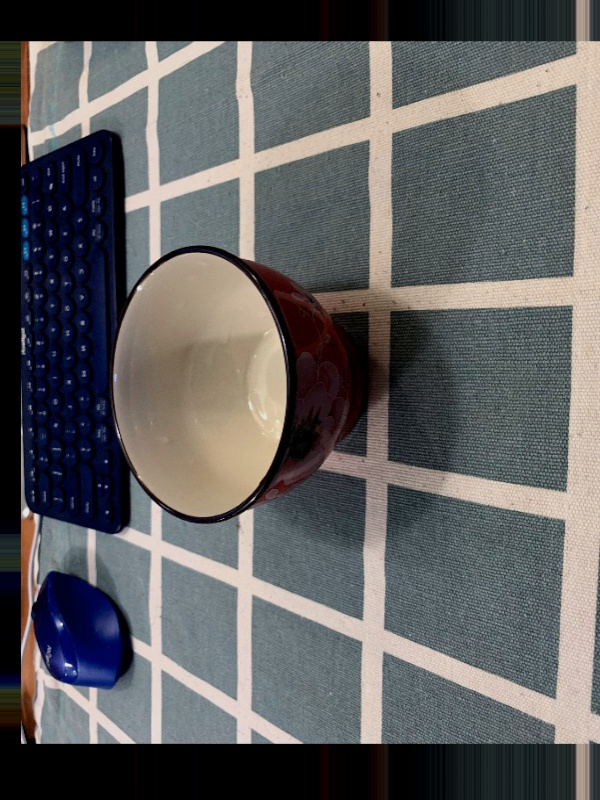bowl_small: (103, 241, 375, 532)
